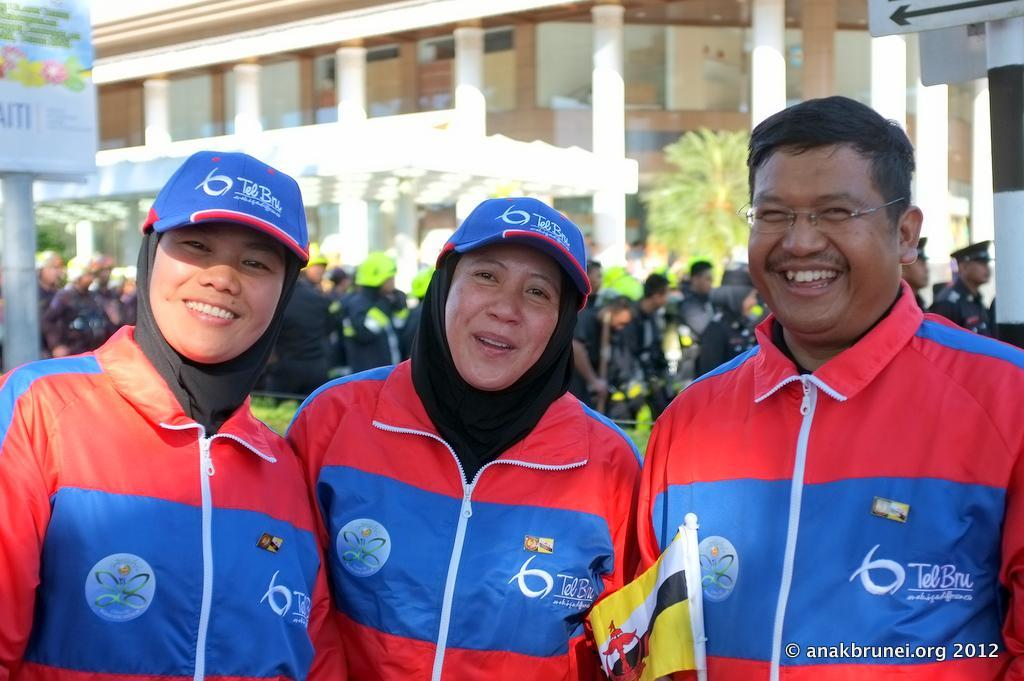Hat: (141, 148, 309, 262), (442, 191, 592, 310)
